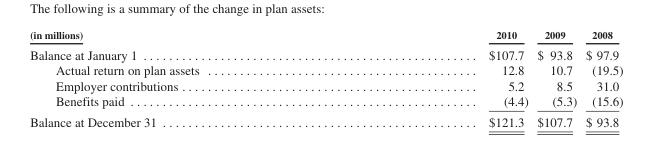table: (29, 28, 622, 128)
table column: (29, 28, 343, 128), (343, 28, 532, 128), (532, 28, 580, 128), (580, 28, 622, 128)
table column header: (29, 28, 622, 43)
table row: (29, 43, 622, 62), (29, 93, 622, 111), (29, 111, 622, 128), (29, 77, 622, 93), (29, 28, 622, 43), (29, 62, 622, 77)
